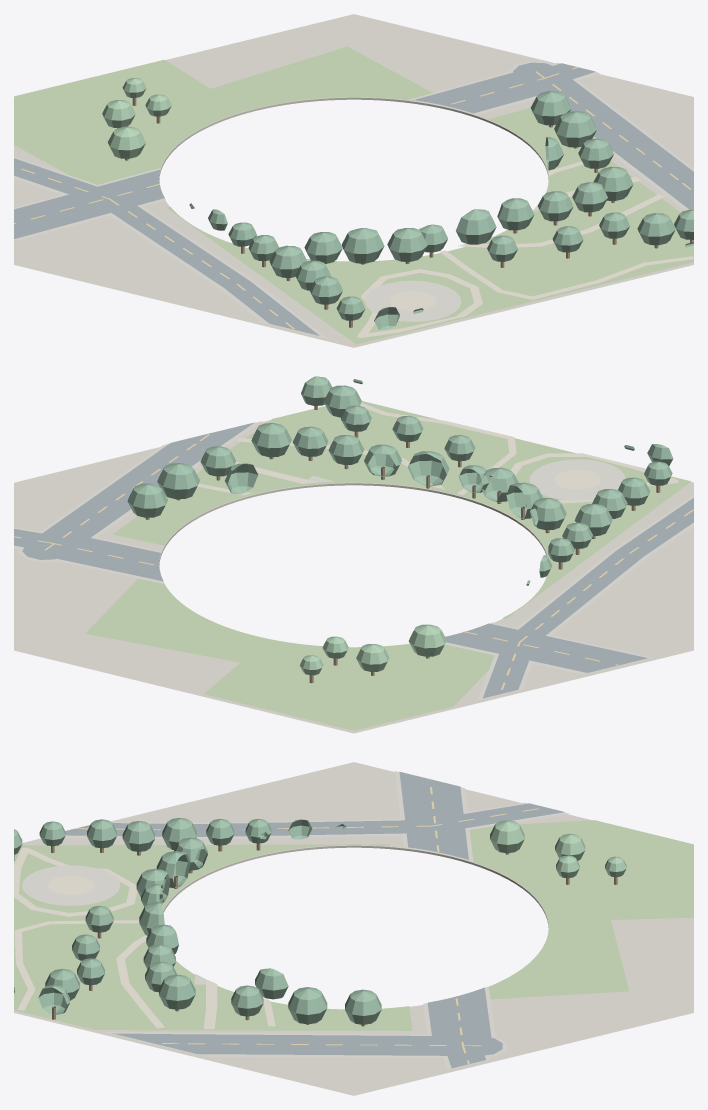
The model's file is surround-P11.glb.
The picture shows the model from 3 angles, top to bottom: view 1: azimuth 30°, elevation 25°; view 2: azimuth 150°, elevation 25°; view 3: azimuth 270°, elevation 25°; orthographic projection.
Parts seen in each view (by area): view 1: P11_lawn, P11_ground, P11_leafdark, P11_road, P11_paving, P11_path, P11_leaf, P11_yellow; view 2: P11_lawn, P11_ground, P11_leafdark, P11_road, P11_paving, P11_path, P11_leaf, P11_yellow, P11_trunk; view 3: P11_lawn, P11_ground, P11_road, P11_leafdark, P11_paving, P11_path, P11_leaf, P11_yellow.
Boxes of the visible parts, bbox=[...] form: P11_lawn: bbox=[14, 46, 693, 344]; P11_ground: bbox=[14, 14, 693, 347]; P11_leafdark: bbox=[189, 91, 693, 329]; P11_road: bbox=[14, 62, 693, 335]; P11_paving: bbox=[14, 61, 693, 337]; P11_path: bbox=[357, 161, 693, 337]; P11_leaf: bbox=[102, 78, 171, 158]; P11_yellow: bbox=[14, 67, 691, 328]; P11_lawn: bbox=[85, 401, 690, 730]; P11_ground: bbox=[14, 420, 693, 733]; P11_leafdark: bbox=[127, 376, 673, 585]; P11_road: bbox=[14, 422, 693, 698]; P11_paving: bbox=[14, 421, 693, 699]; P11_path: bbox=[197, 402, 678, 503]; P11_leaf: bbox=[299, 624, 446, 675]; P11_yellow: bbox=[14, 434, 693, 689]; P11_trunk: bbox=[145, 406, 660, 683]; P11_lawn: bbox=[14, 820, 693, 1030]; P11_ground: bbox=[14, 762, 693, 1095]; P11_road: bbox=[65, 771, 564, 1068]; P11_leafdark: bbox=[14, 817, 381, 1024]; P11_paving: bbox=[22, 771, 569, 1069]; P11_path: bbox=[14, 847, 275, 1029]; P11_leaf: bbox=[490, 820, 626, 878]; P11_yellow: bbox=[74, 778, 538, 1063].
Bounding box in the file's own units: 16.16 × 0.8682 × 14.
